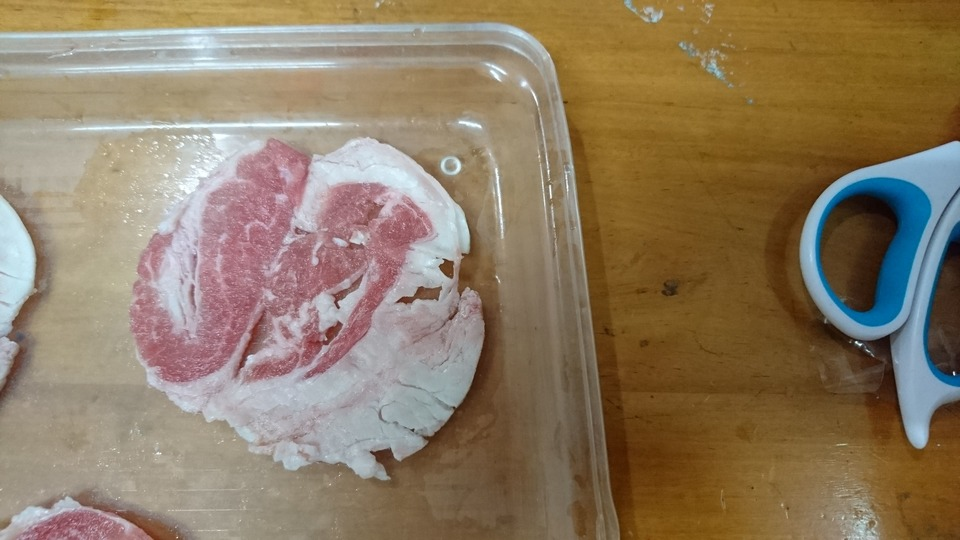restructured meat: (129, 126, 488, 486)
